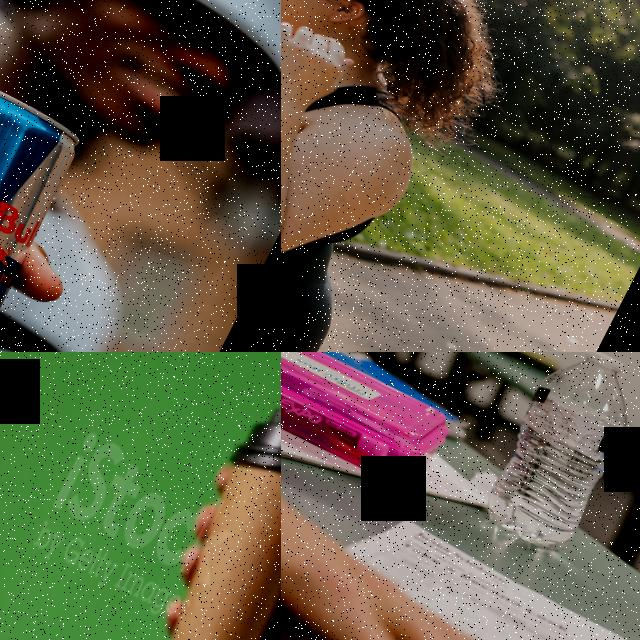bottle: (470, 352, 640, 562)
can: (0, 60, 92, 352)
cup: (131, 400, 281, 640)
